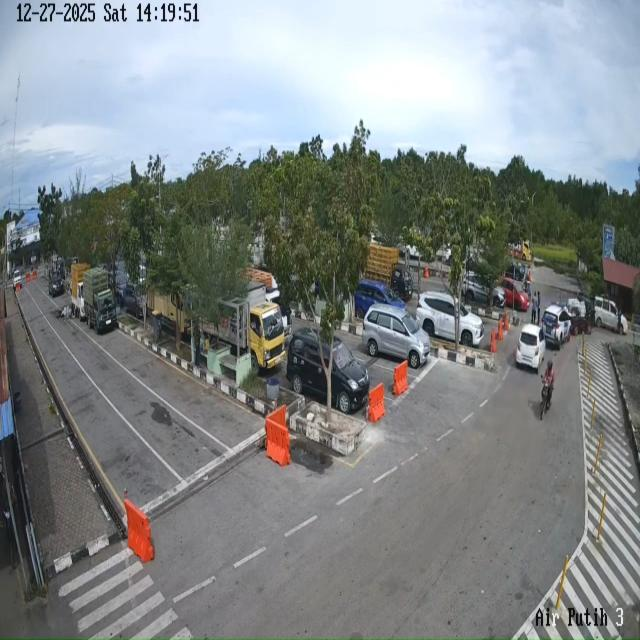Golongan IVA: (286, 327, 370, 414), (362, 304, 430, 369), (416, 292, 484, 347), (354, 279, 406, 319), (462, 272, 506, 308), (516, 324, 546, 371), (541, 304, 571, 350), (594, 296, 628, 334), (500, 276, 530, 312), (504, 262, 526, 281), (48, 272, 64, 298)
Golongan IVB: (83, 267, 117, 334), (70, 263, 90, 321)
Golongan VB: (201, 281, 286, 373)
